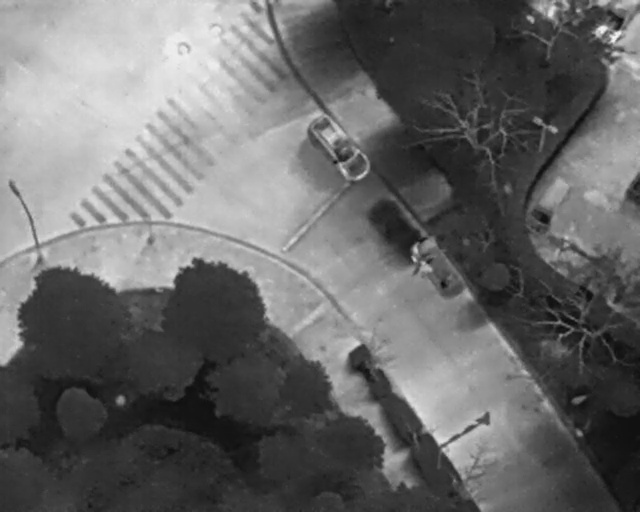Car: (302, 107, 380, 190), (404, 230, 472, 306)
